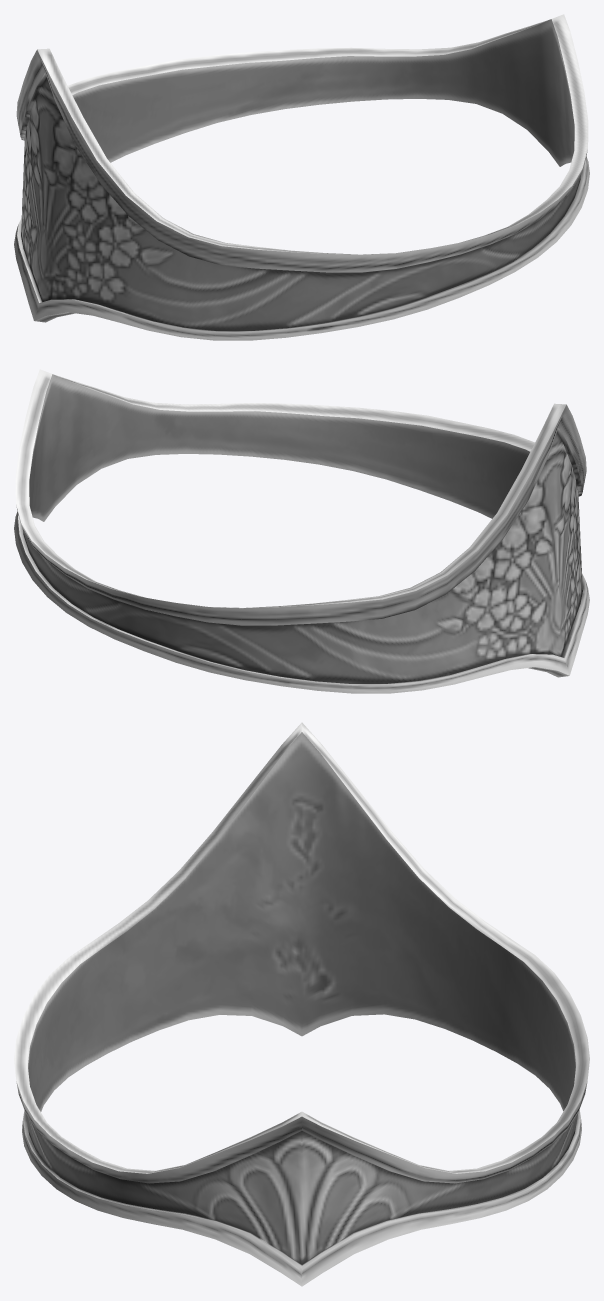
Rendered from SM_Female_Crown_Silver.fbx.
3 renders of one model, top to bottom at view 1: azimuth 30°, elevation 25°; view 2: azimuth 150°, elevation 25°; view 3: azimuth 270°, elevation 25°, orthographic. The views are drawn at different scales.
Parts seen in each view (by area): view 1: SM_Female_Crown_Silver_LOD0; view 2: SM_Female_Crown_Silver_LOD0; view 3: SM_Female_Crown_Silver_LOD0.
Boxes of the visible parts, box(x1,y1,x2,y2) form: SM_Female_Crown_Silver_LOD0: box(14, 14, 589, 340); SM_Female_Crown_Silver_LOD0: box(14, 369, 589, 693); SM_Female_Crown_Silver_LOD0: box(14, 722, 589, 1286).
Size of the model in its own units: 21.93 by 18.09 by 10.73.
